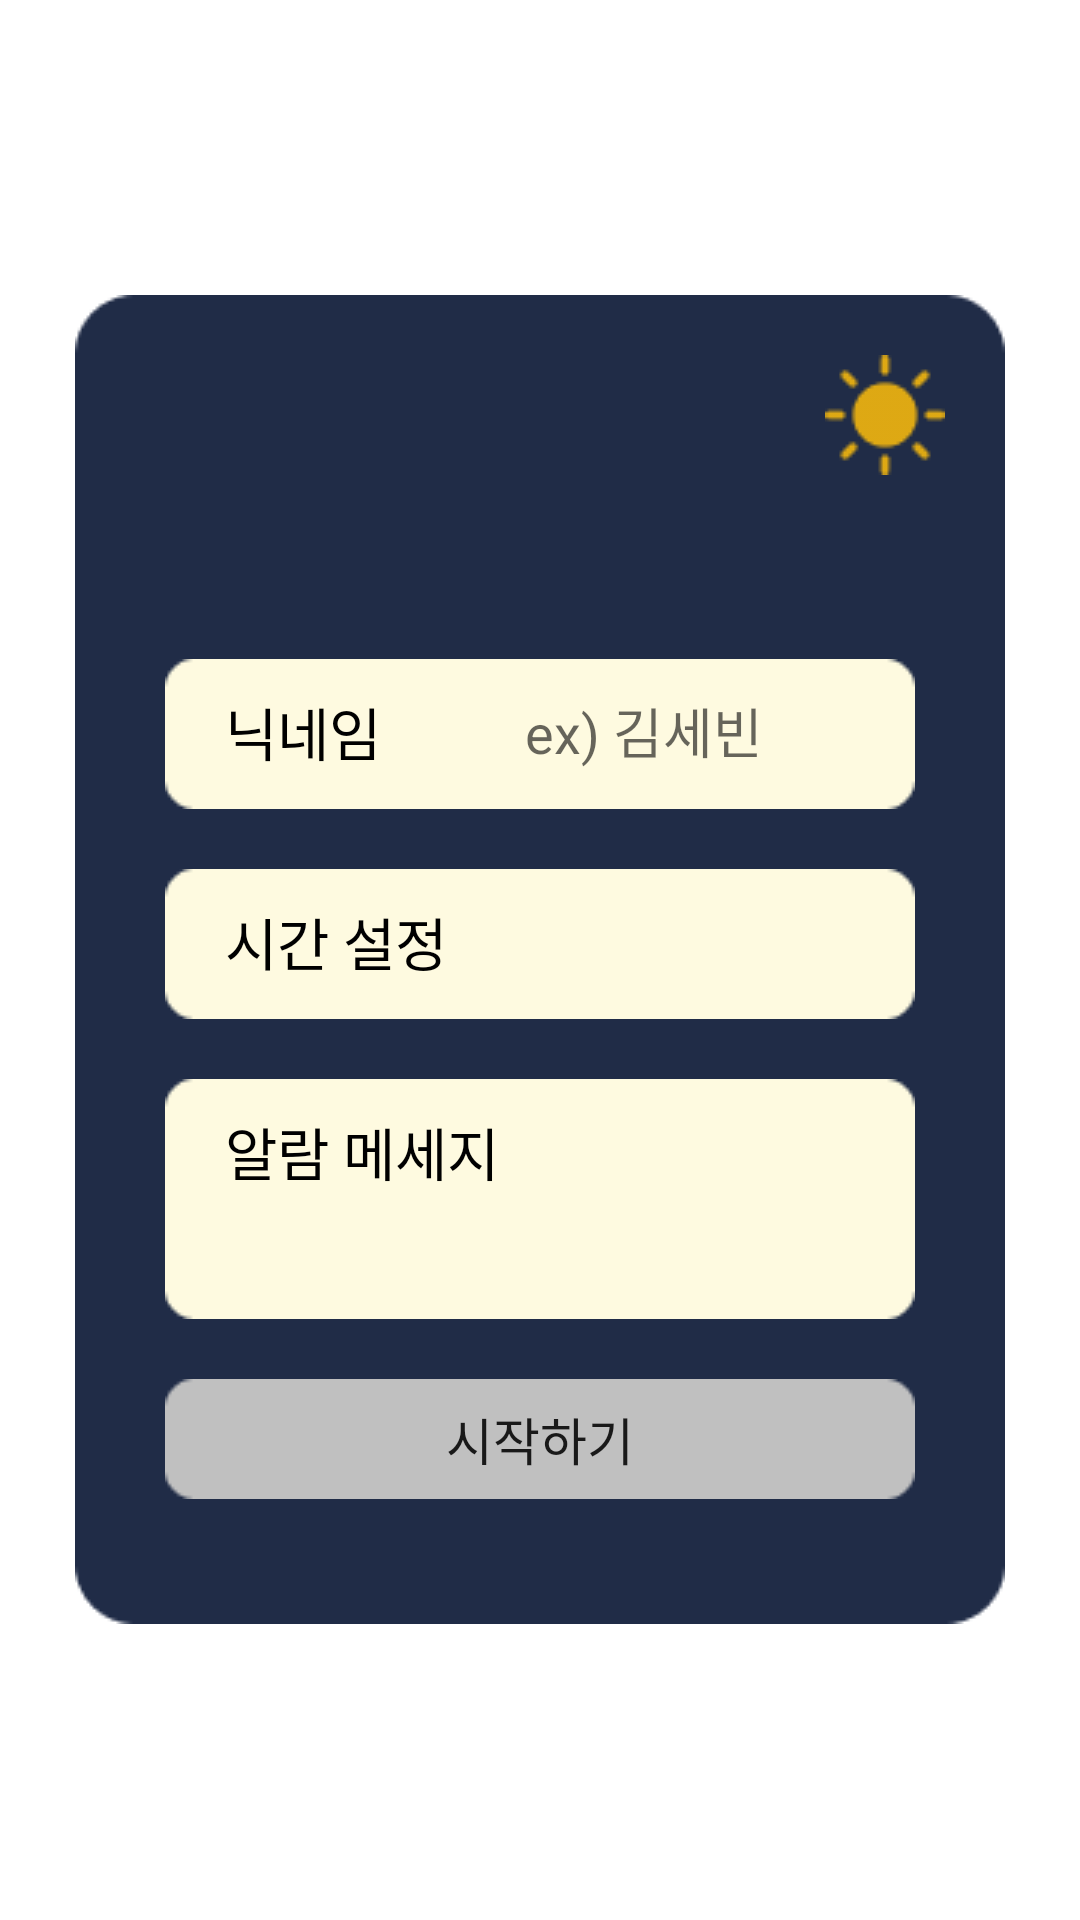

Where icons sit on this 1080×1920 app screen, as (x1, y1, x2, y2):
onboradingimage: (825, 355, 945, 475)
